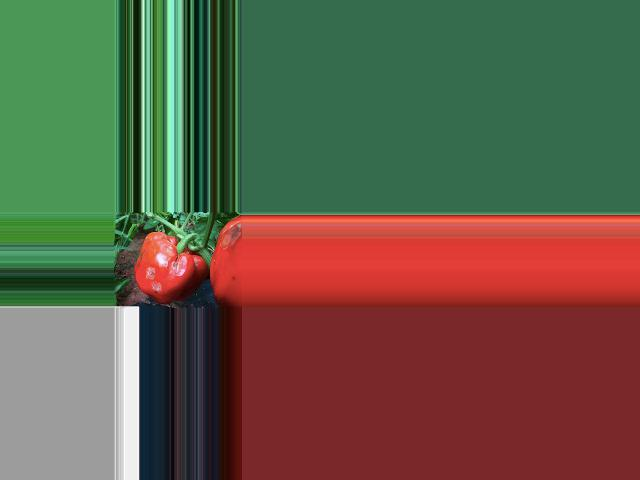bell_pepper: (137, 225, 206, 308)
